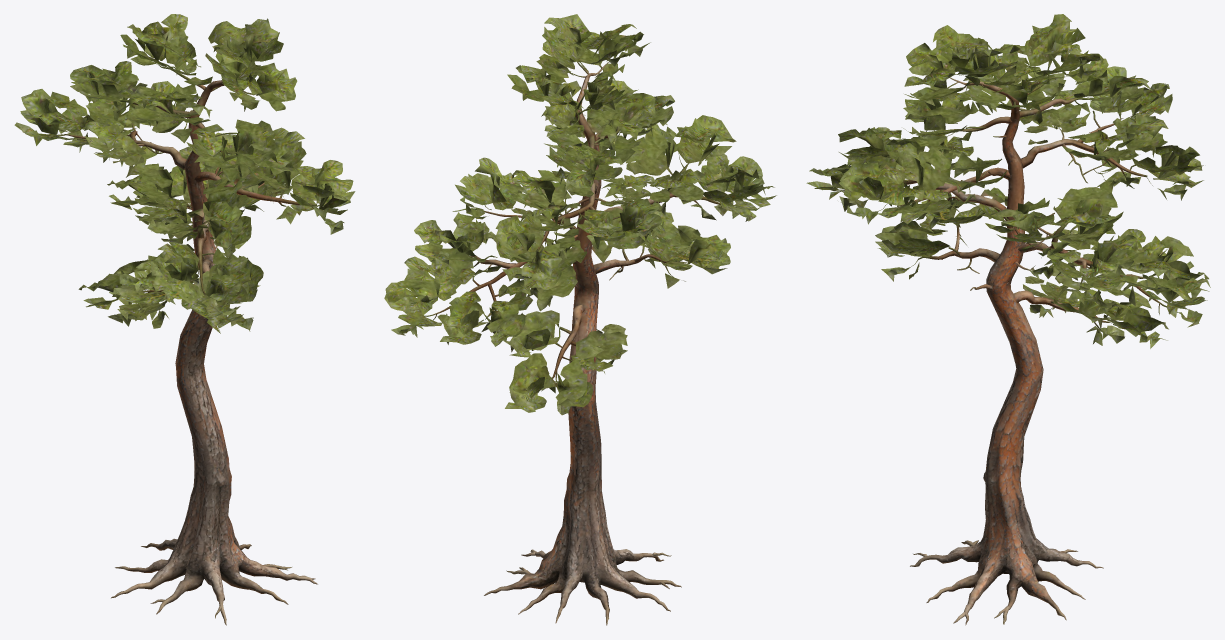
File: red_pine.glb
The picture shows the model from 3 angles, left to right: view 1: azimuth 30°, elevation 25°; view 2: azimuth 150°, elevation 25°; view 3: azimuth 270°, elevation 25°; orthographic projection.
Parts seen in each view (by area): view 1: tripo_node_a2ff67a6-df3e-4166-847e-78669d80a6e0; view 2: tripo_node_a2ff67a6-df3e-4166-847e-78669d80a6e0; view 3: tripo_node_a2ff67a6-df3e-4166-847e-78669d80a6e0.
Boxes of the visible parts, x1=… form: tripo_node_a2ff67a6-df3e-4166-847e-78669d80a6e0: x1=14, y1=14, x2=355, y2=625; tripo_node_a2ff67a6-df3e-4166-847e-78669d80a6e0: x1=384, y1=14, x2=776, y2=625; tripo_node_a2ff67a6-df3e-4166-847e-78669d80a6e0: x1=806, y1=14, x2=1210, y2=625.
Bounding box in the file's own units: 0.4878 × 0.9995 × 0.6558.
1 material, 1 textured.
